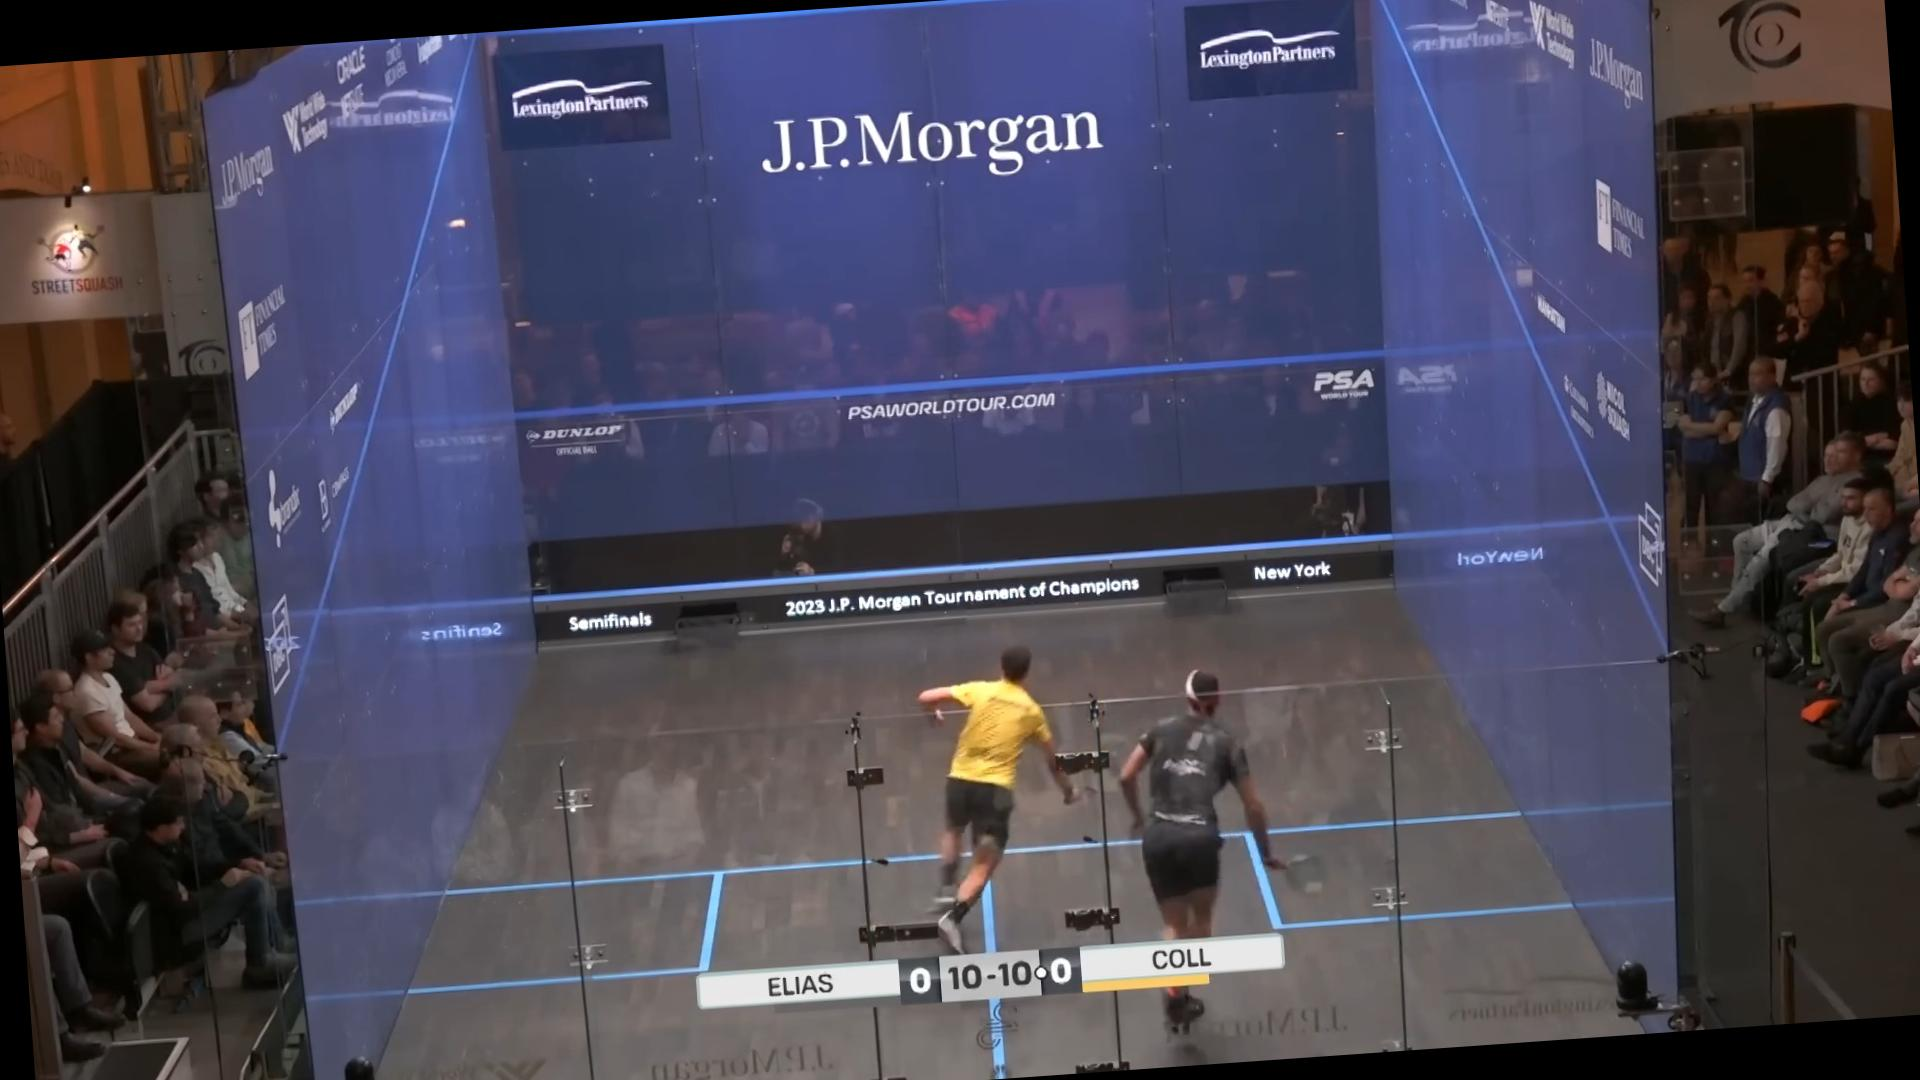Racket: (1266, 845, 1337, 905)
